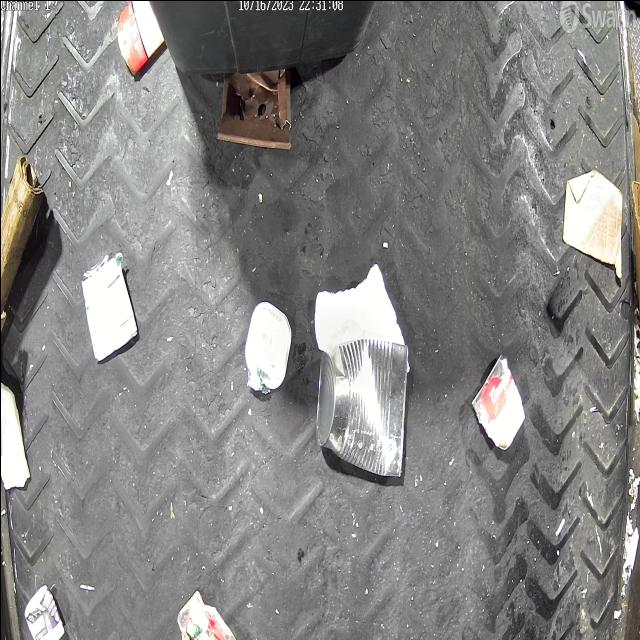can: (315, 339, 407, 476), (80, 249, 138, 364), (471, 353, 525, 450)
